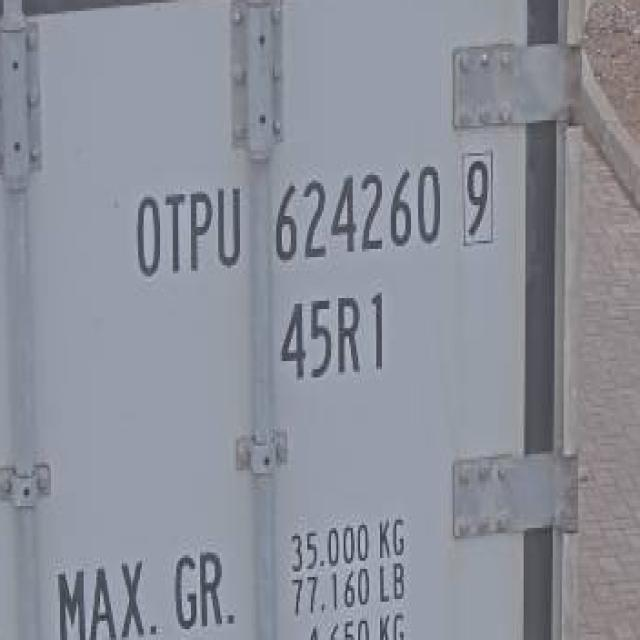dv: (453, 142, 499, 252)
owner: (123, 172, 250, 290)
serial: (268, 159, 448, 268)
size: (274, 285, 393, 389)
